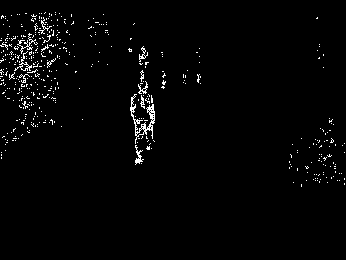person: (129, 80, 157, 165)
